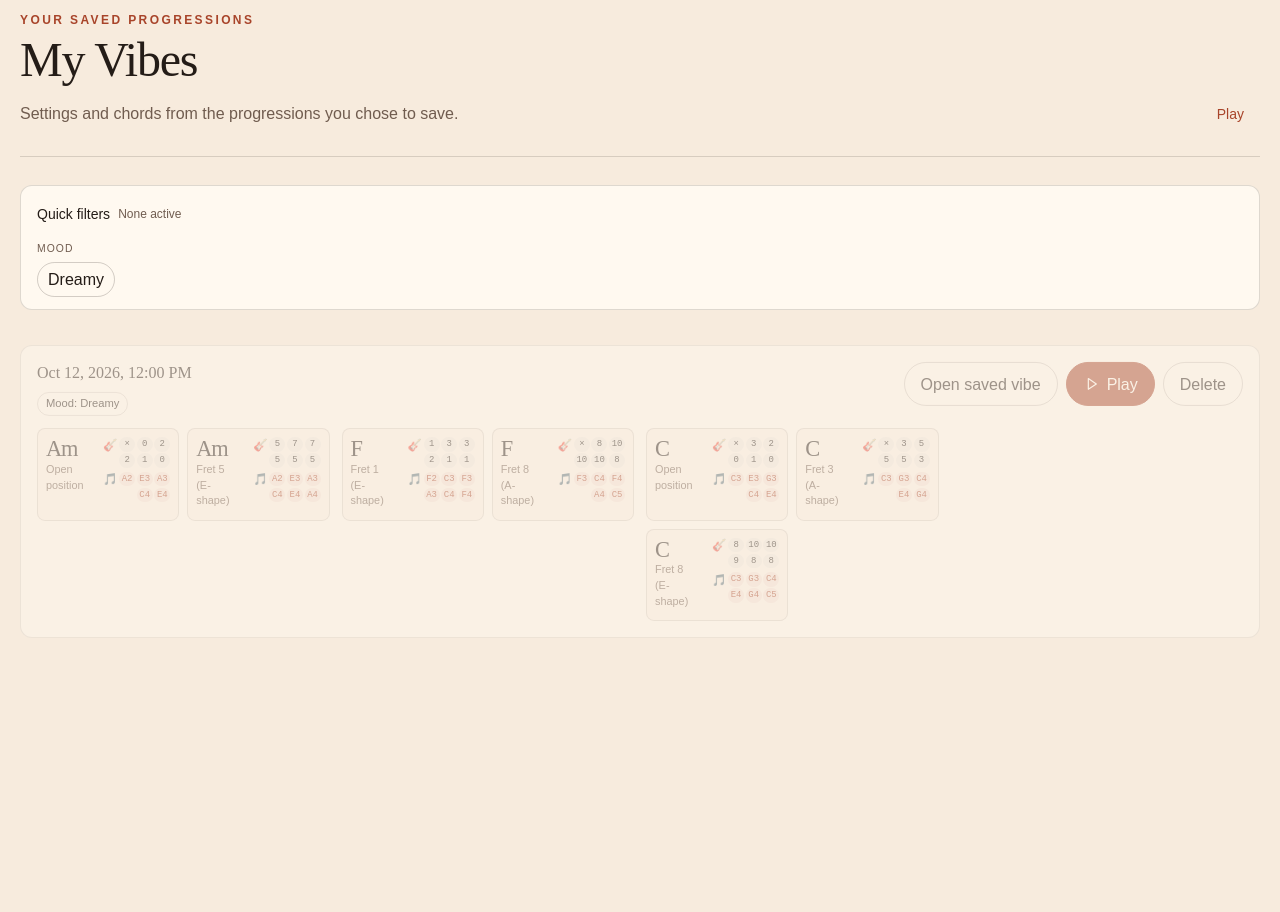
Test: opens legacy vibes as an original-only comparison and closes comparison before library playback
Click the button "Open saved vibe".
click(981, 384)  # box [904,362,1058,406]
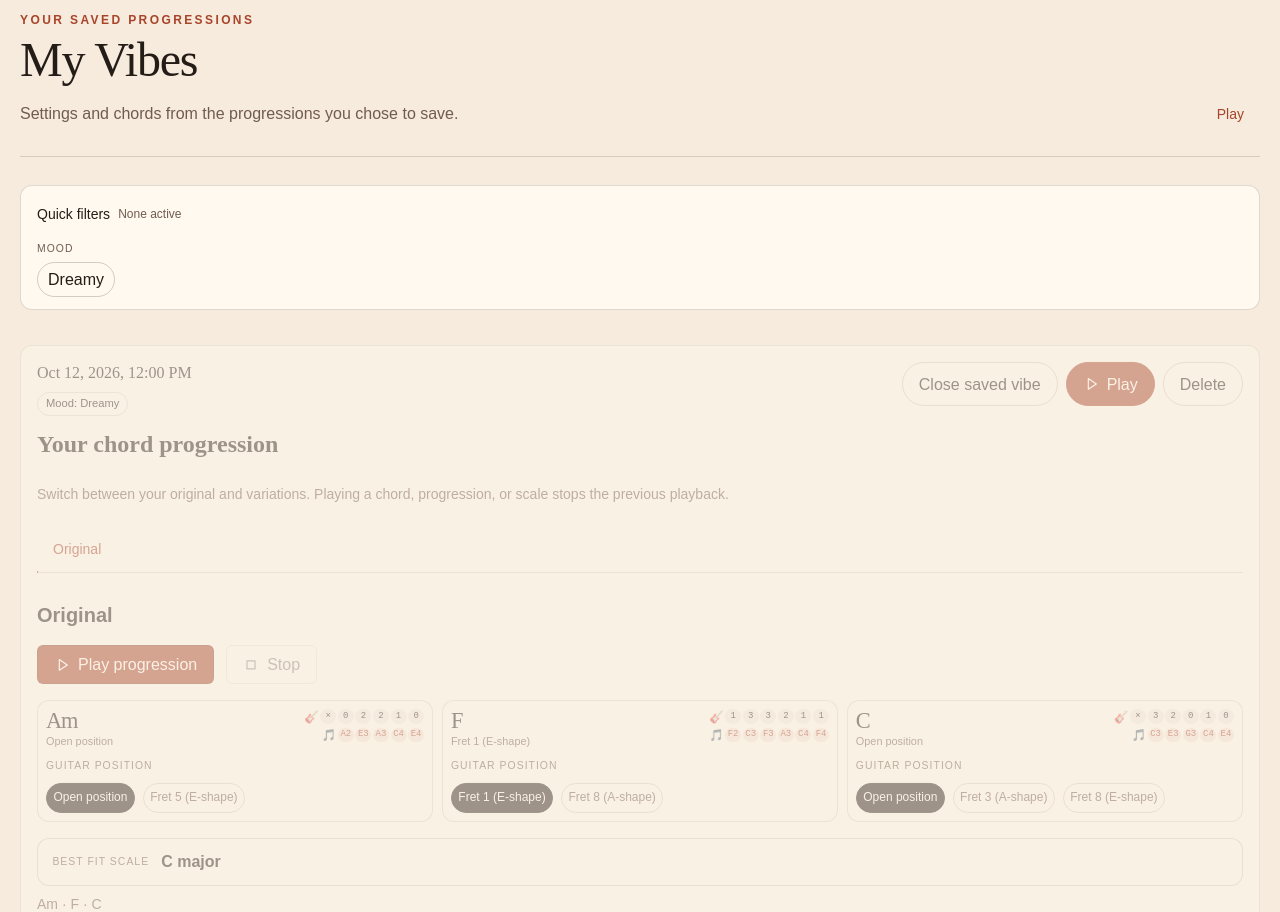
Expected: the button named "Open saved vibe" is expanded
Expected: the element "Original" is shown, [37,593,1243,886]
Click the button "Close saved vibe".
click(980, 384)  # box [902,362,1058,406]
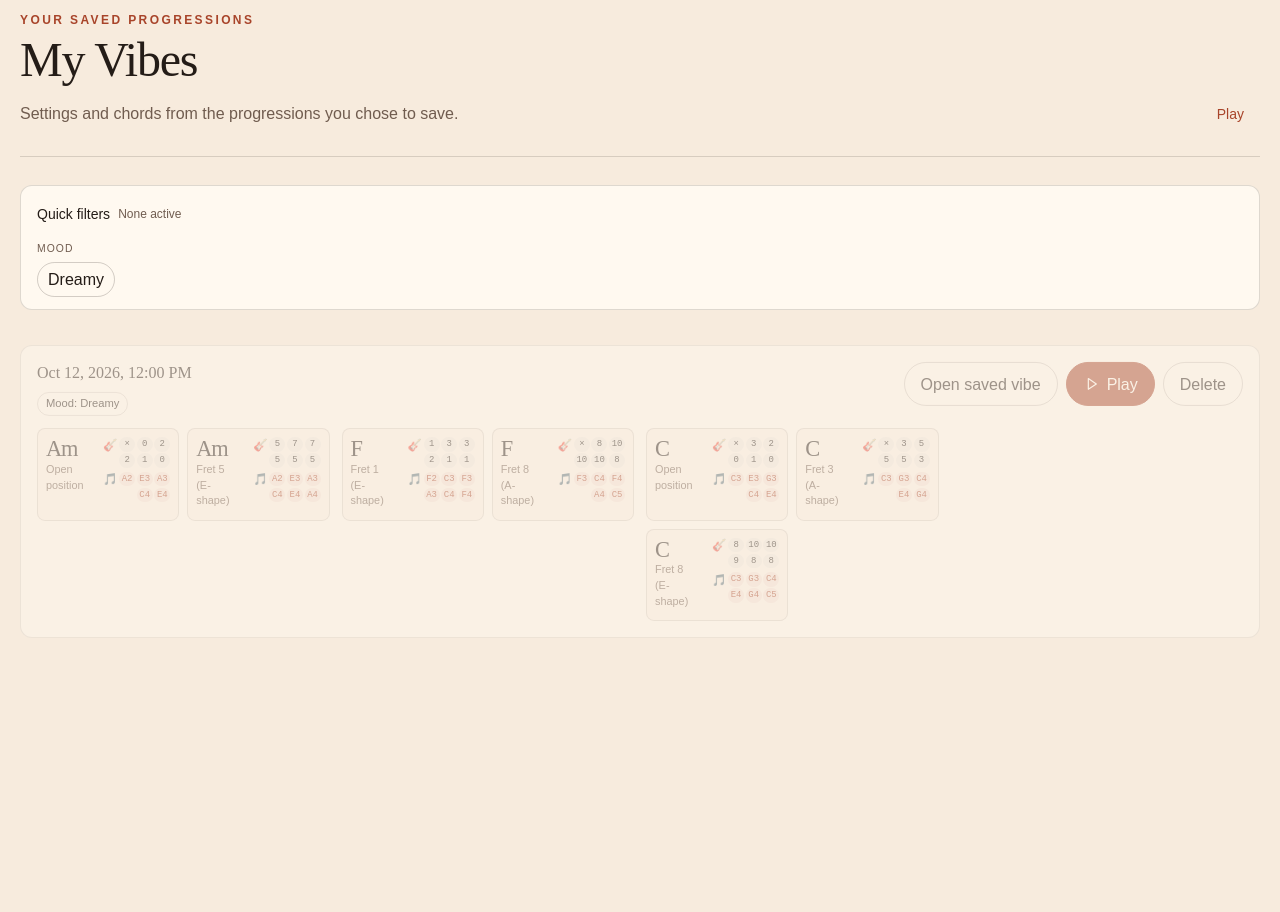
Expected: the text "original" is gone
Click the button "Open saved vibe".
click(981, 384)  # box [904,362,1058,406]
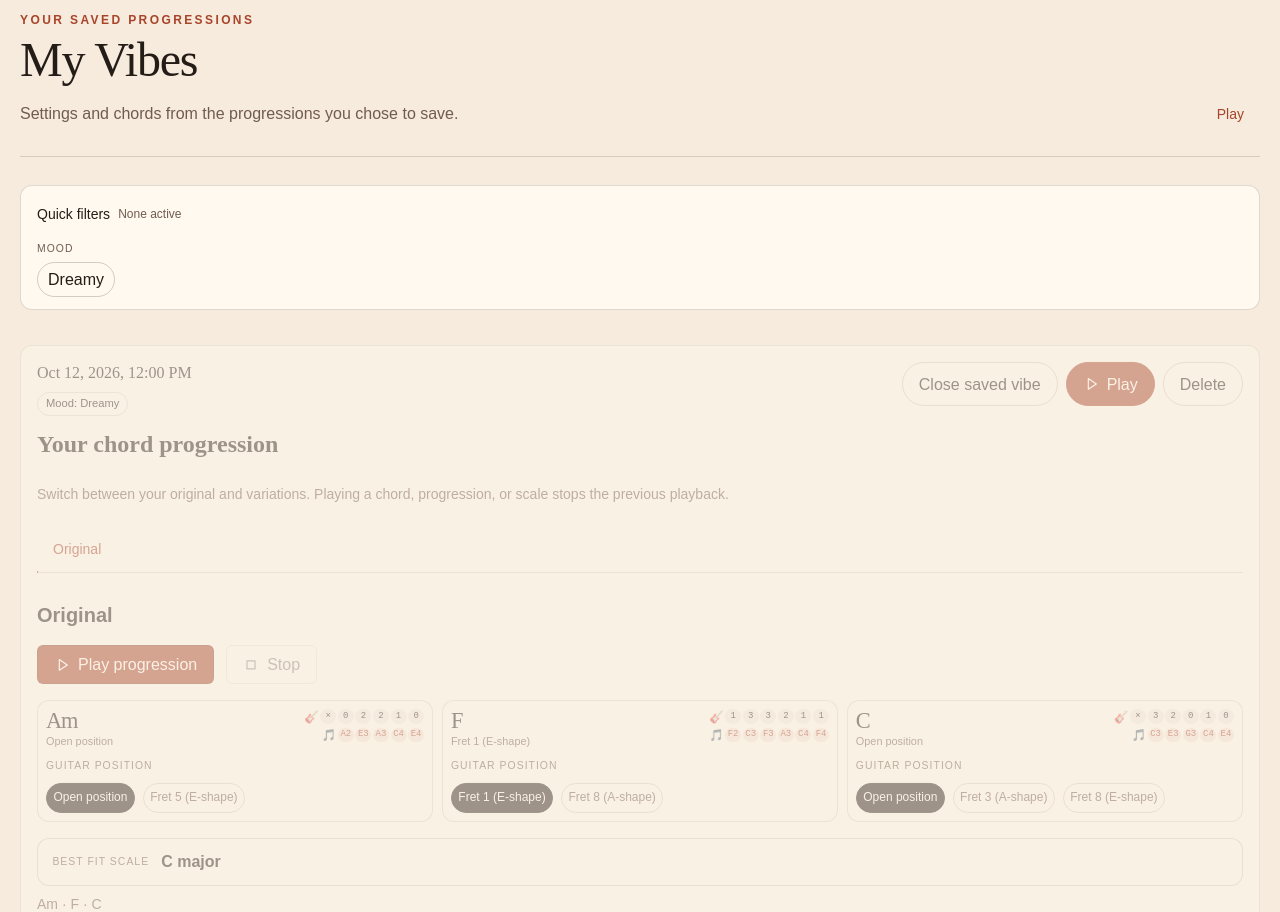
Click the button with aria-label "Play saved progression".
click(1110, 384)  # box [1066,362,1155,406]
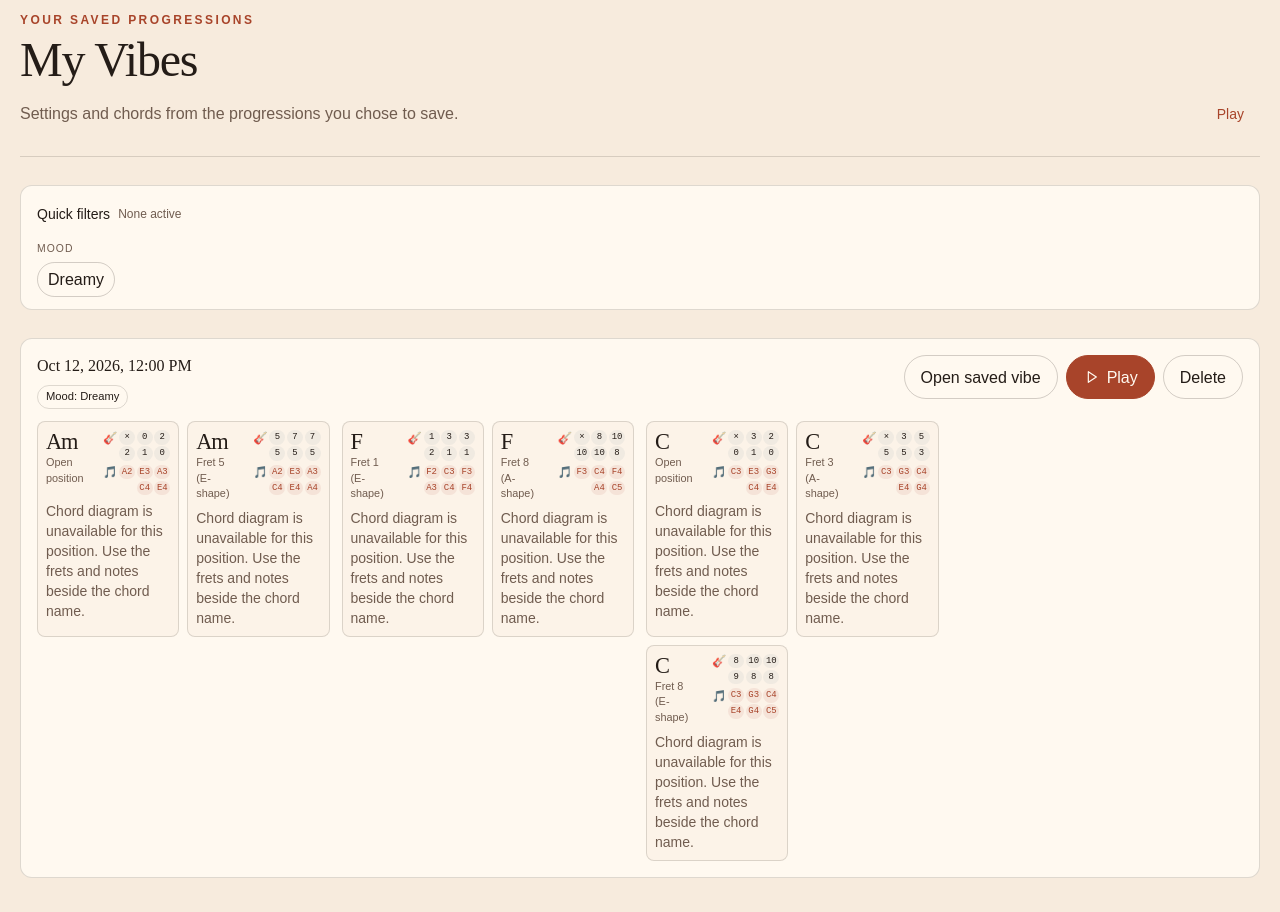
Expected: the text "original" is gone
